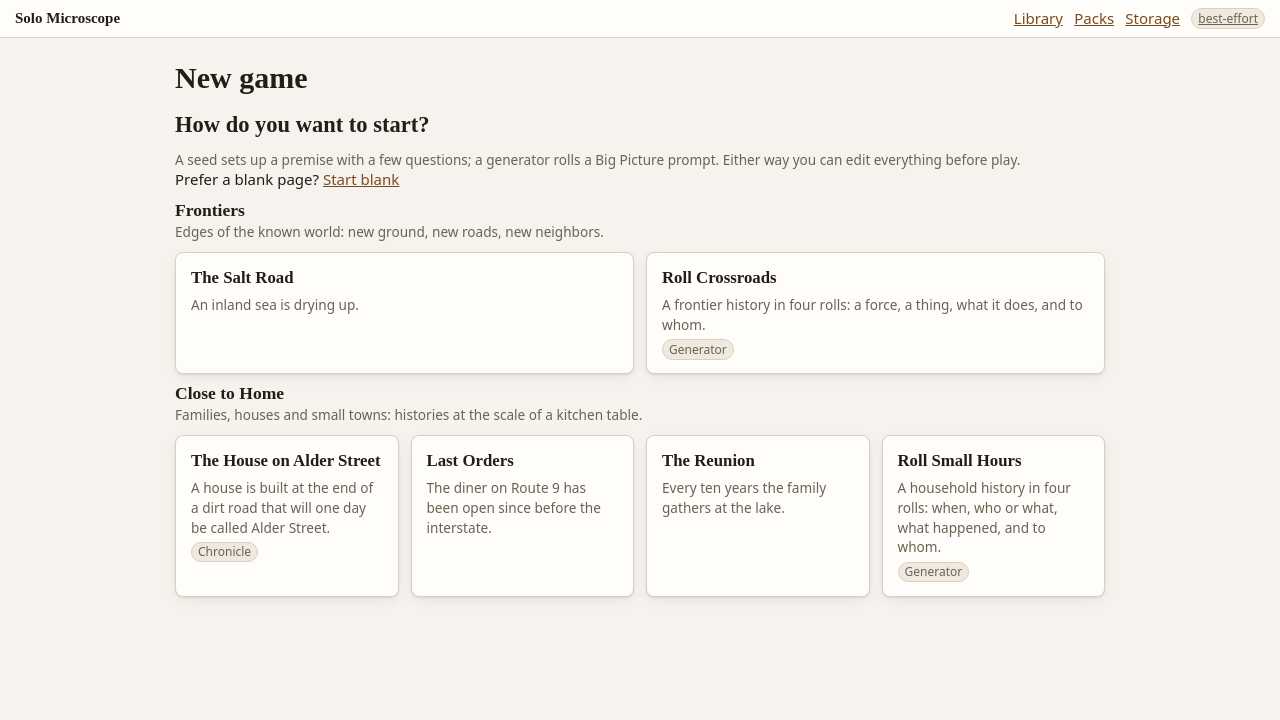
Scenario: New game: choose a start first › Start blank offers installed toolkits and links the ticked ones
The width and height of the screenshot is (1280, 720).
Step 1. Click the button "Start blank" → (361, 180), box [323,169,399,191]
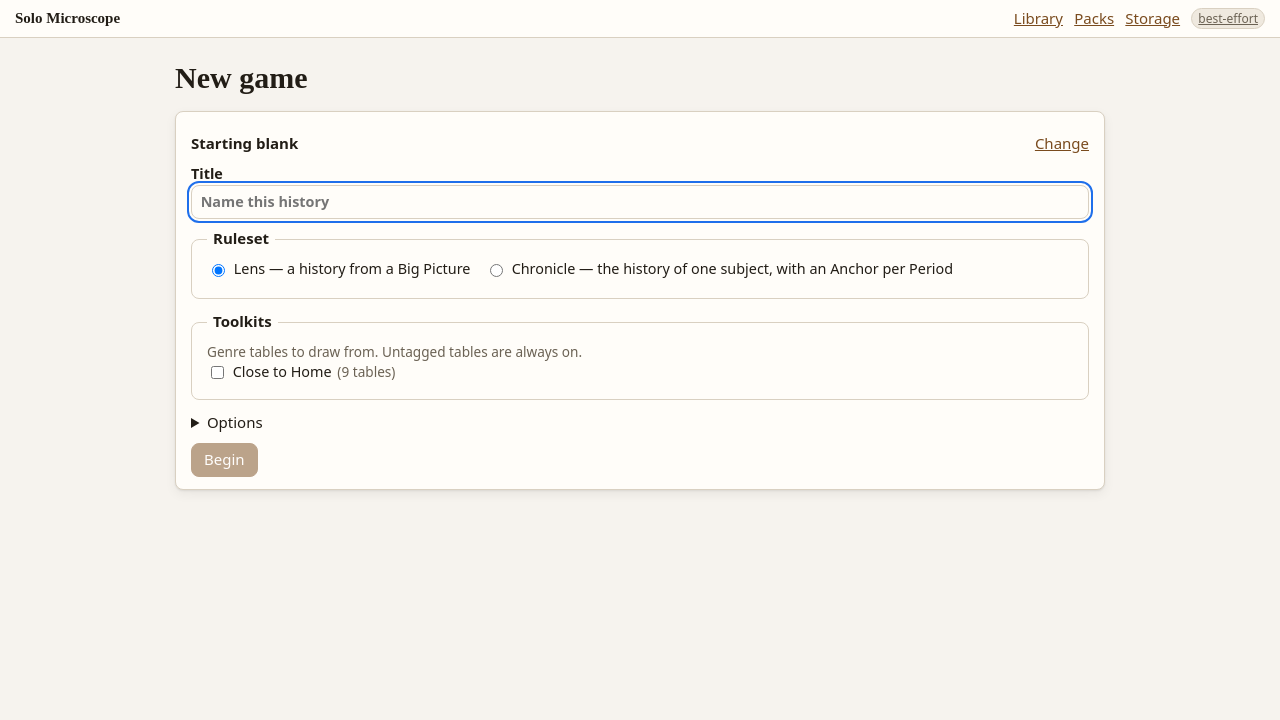
Step 2. Click the checkbox labelled "Close to Home (9 tables)" → (218, 372), box [211,366,224,379]
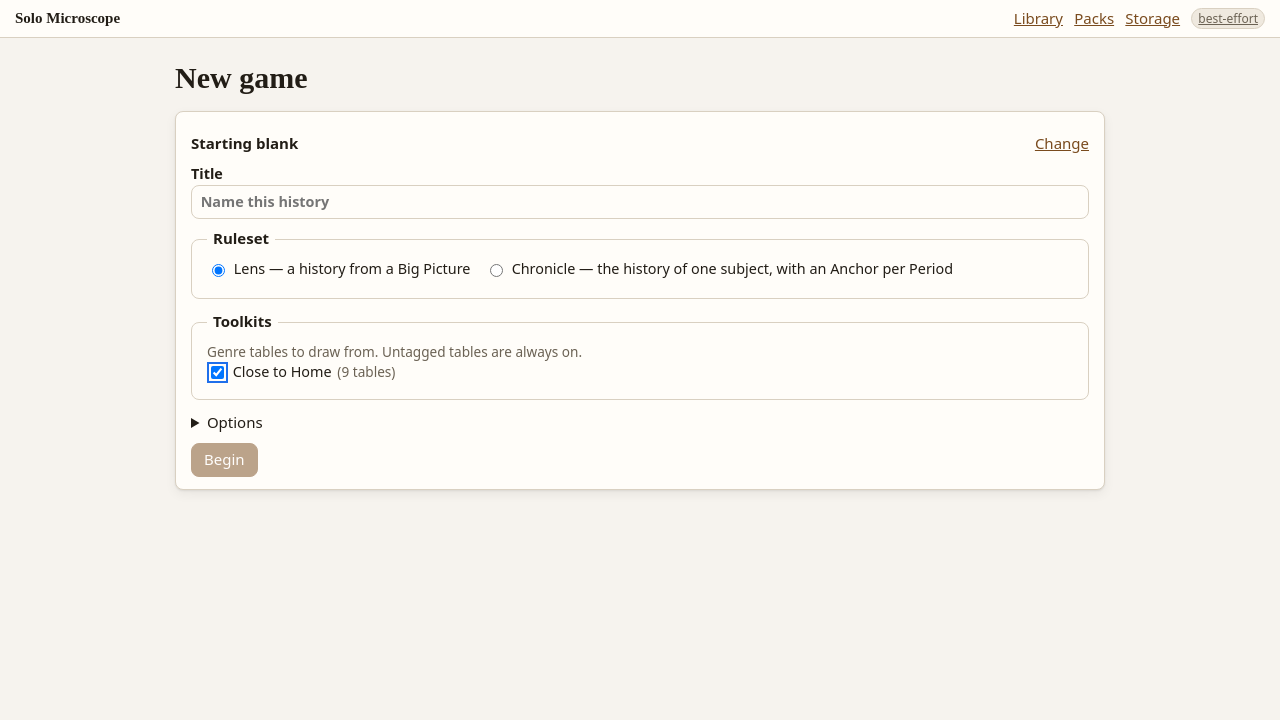
Step 3. Type "Kitchen table" into the field labelled "Title" → (640, 202), box [191,185,1089,219]
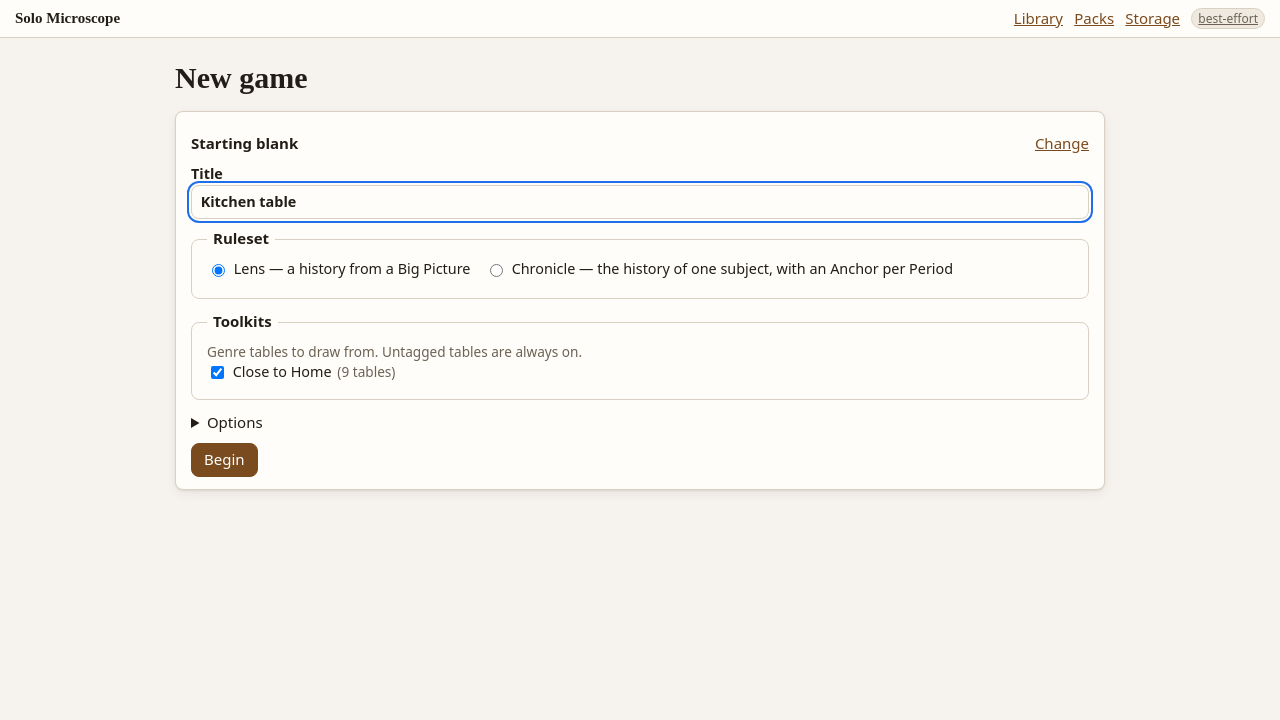
Step 4. Click the button "Begin" → (224, 460), box [191,443,258,477]
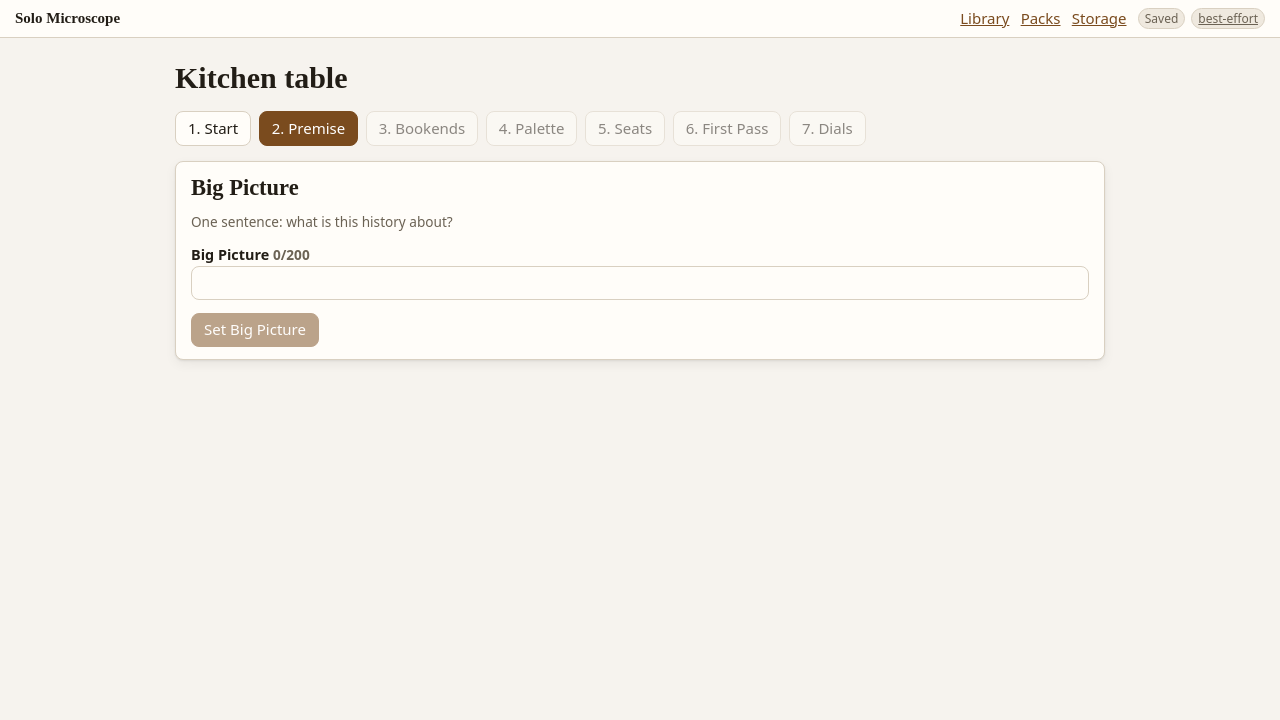
Result: the list named "Setup steps" is shown at [175,111,866,146]
Result: the button "2. Premise" is shown at [259,111,358,146]
